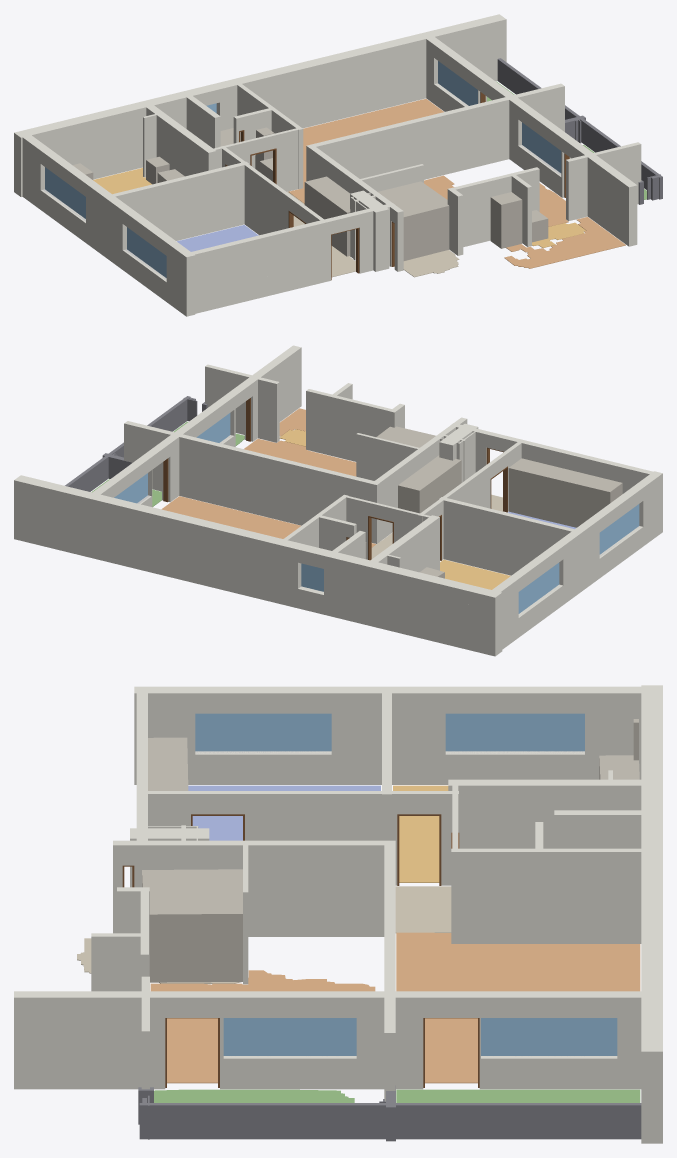
3 views of the same model, one above another, from view 1: azimuth 30°, elevation 25°; view 2: azimuth 150°, elevation 25°; view 3: azimuth 270°, elevation 25° (orthographic). The views are drawn at different scales.
Visible parts, largest first — view 1: walls, furniture_3_closet, floor_3_Living_Room, railings, floor_10_Living_Room, furniture_2_closet, furniture_5_closet, floor_9_Living_Room, floor_6_Bed_Room, floor_11_Entry, window_5, window_8 (+6 smaller); view 2: walls, furniture_4_closet, furniture_2_closet, floor_3_Living_Room, railings, floor_9_Living_Room, floor_0_Kitchen, window_5, window_4, furniture_3_closet, window_2, window_8 (+2 smaller); view 3: walls, railings, floor_3_Living_Room, furniture_3_closet, floor_9_Living_Room, window_5, window_4, window_0, window_8, floor_5_Outdoor, floor_0_Kitchen, floor_4_Entry (+4 smaller).
Part boxes in pixels (x1,y1,x2,y2): walls: [14, 14, 641, 316]; furniture_3_closet: [378, 181, 449, 260]; floor_3_Living_Room: [288, 99, 443, 203]; railings: [497, 58, 662, 204]; floor_10_Living_Room: [504, 217, 625, 268]; furniture_2_closet: [304, 176, 350, 256]; furniture_5_closet: [490, 192, 522, 248]; floor_9_Living_Room: [424, 175, 568, 226]; floor_6_Bed_Room: [177, 225, 258, 251]; floor_11_Entry: [403, 250, 459, 277]; window_5: [45, 167, 85, 218]; window_8: [522, 122, 561, 172]; walls: [14, 345, 662, 656]; furniture_4_closet: [508, 458, 622, 527]; furniture_2_closet: [398, 455, 461, 513]; floor_3_Living_Room: [161, 496, 376, 547]; railings: [65, 396, 207, 491]; floor_9_Living_Room: [244, 438, 356, 476]; floor_0_Kitchen: [440, 559, 510, 589]; window_5: [518, 562, 559, 613]; window_4: [599, 504, 639, 554]; furniture_3_closet: [376, 426, 435, 447]; window_2: [301, 563, 323, 591]; window_8: [196, 413, 230, 442]; walls: [14, 685, 662, 1143]; railings: [138, 1085, 641, 1141]; floor_3_Living_Room: [396, 932, 640, 1083]; furniture_3_closet: [142, 869, 242, 982]; floor_9_Living_Room: [150, 970, 375, 1083]; window_5: [445, 713, 584, 751]; window_4: [195, 713, 331, 751]; window_0: [481, 1018, 617, 1055]; window_8: [223, 1018, 356, 1055]; floor_5_Outdoor: [396, 1089, 640, 1102]; floor_0_Kitchen: [393, 785, 448, 882]; floor_4_Entry: [395, 886, 451, 932].
Size of the model in its own units: 23.09 by 2.72 by 17.28.
